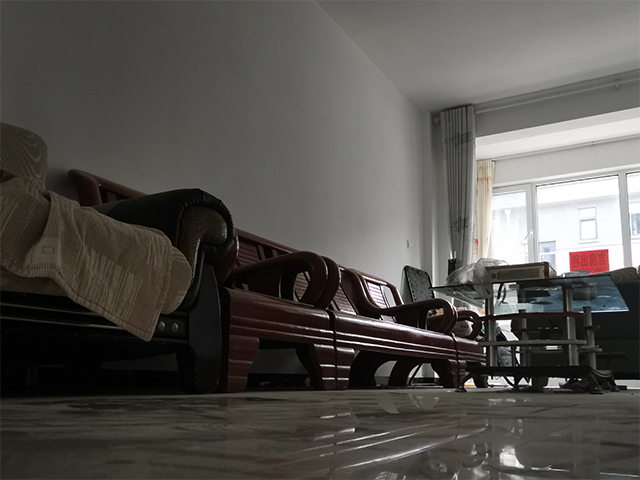curtain: (435, 100, 475, 286)
sofa: (1, 123, 236, 396)
stool: (216, 230, 330, 388), (348, 266, 460, 388)
table: (427, 271, 633, 395)
